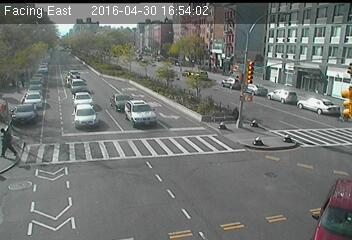neg: (189, 171, 222, 215), (58, 56, 88, 96), (322, 123, 347, 156), (143, 147, 167, 179), (77, 171, 101, 203), (117, 39, 140, 70), (291, 19, 314, 49), (315, 169, 337, 200), (64, 105, 86, 135), (248, 184, 270, 213), (46, 189, 65, 215), (312, 68, 330, 93), (232, 89, 250, 113), (195, 47, 212, 70), (159, 72, 176, 95), (40, 88, 57, 110), (98, 137, 114, 159), (123, 86, 139, 107), (134, 194, 150, 215), (241, 57, 256, 78), (278, 73, 293, 93), (195, 115, 210, 135), (10, 49, 23, 68), (248, 137, 262, 154), (281, 126, 293, 143), (255, 107, 267, 123), (299, 90, 309, 103)
pos: (1, 122, 27, 157)
